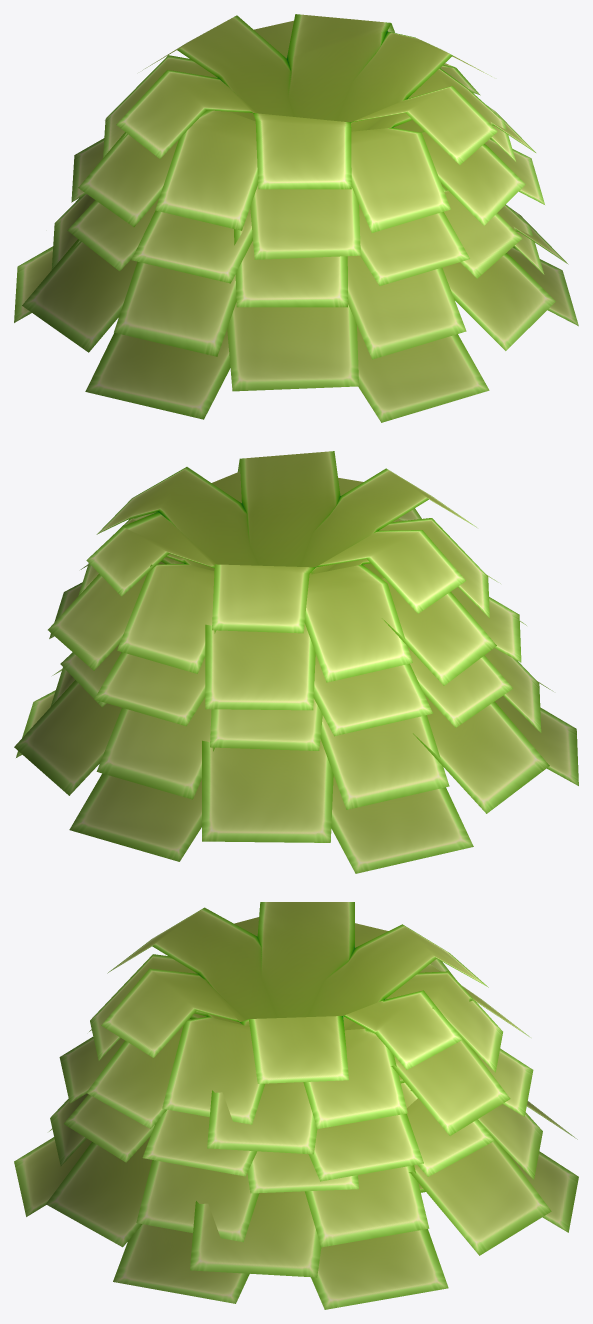
Rendered from SM_Plant_01_C.fbx.
3 renders of one model, top to bottom at view 1: azimuth 30°, elevation 25°; view 2: azimuth 150°, elevation 25°; view 3: azimuth 270°, elevation 25°, orthographic.
Parts seen in each view (by area): view 1: polySurface634; view 2: polySurface634; view 3: polySurface634.
Part boxes in pixels (box(x1,y1,x2,y2)): polySurface634: box(14, 14, 578, 422); polySurface634: box(14, 451, 578, 873); polySurface634: box(14, 902, 578, 1309).
Size of the model in its own units: 82.29 by 42.08 by 81.5.
